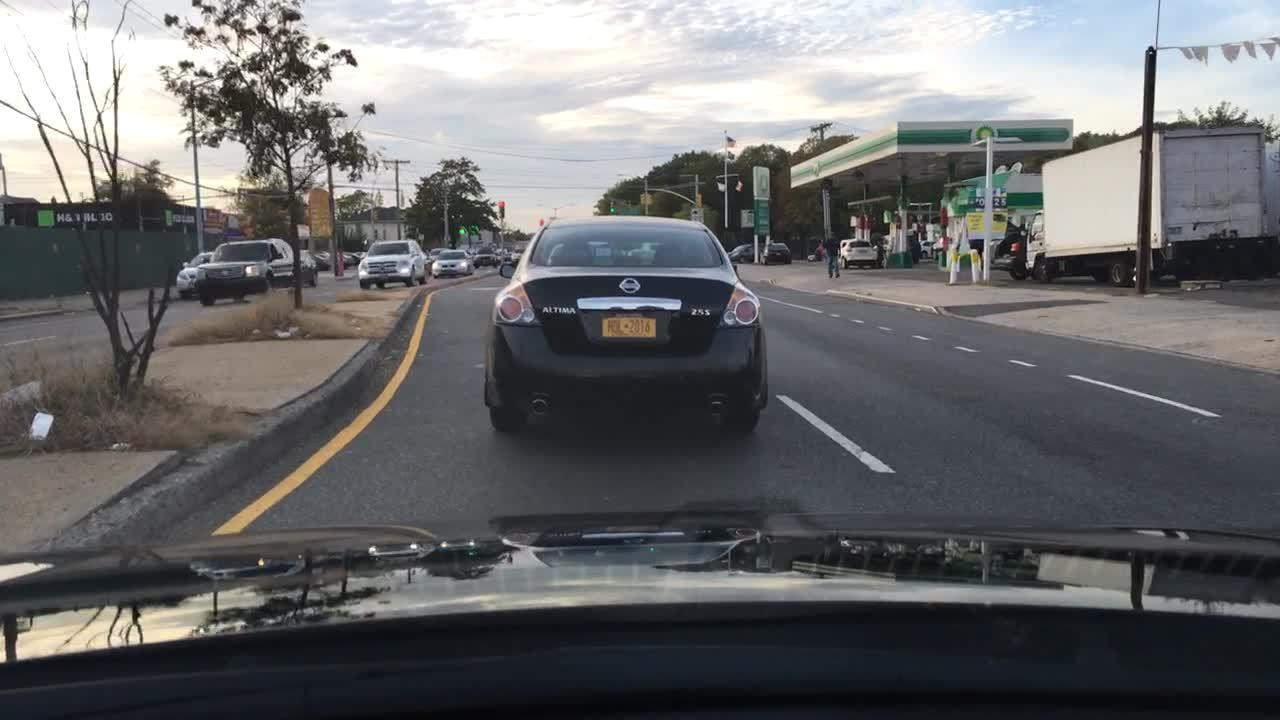Nissan: (608, 267, 654, 304)
